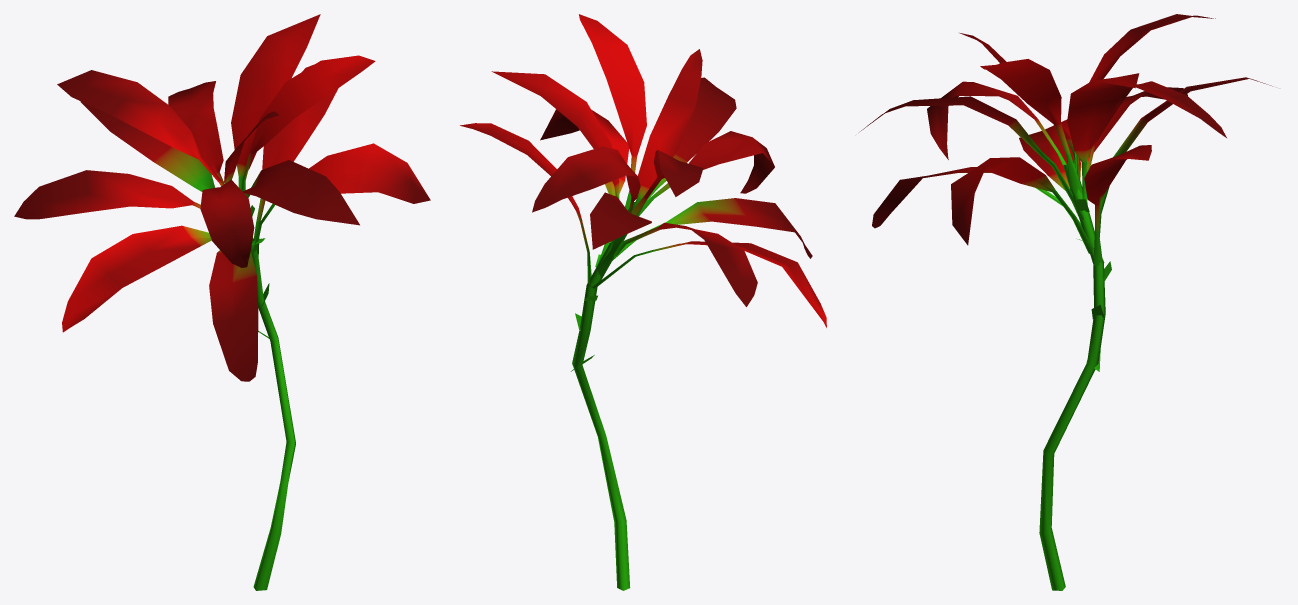
The model's file is Var3_LOD1.fbx.
3 renders of one model, left to right at view 1: azimuth 30°, elevation 25°; view 2: azimuth 150°, elevation 25°; view 3: azimuth 270°, elevation 25°, orthographic. The views are drawn at different scales.
Parts seen in each view (by area): view 1: _e17d_Var3_LOD1; view 2: _e17d_Var3_LOD1; view 3: _e17d_Var3_LOD1.
Part boxes in pixels (bbox=[...]): _e17d_Var3_LOD1: bbox=[14, 14, 430, 590]; _e17d_Var3_LOD1: bbox=[460, 14, 826, 590]; _e17d_Var3_LOD1: bbox=[860, 14, 1272, 590].
Size of the model in its own units: 38.71 by 60.28 by 41.65.
